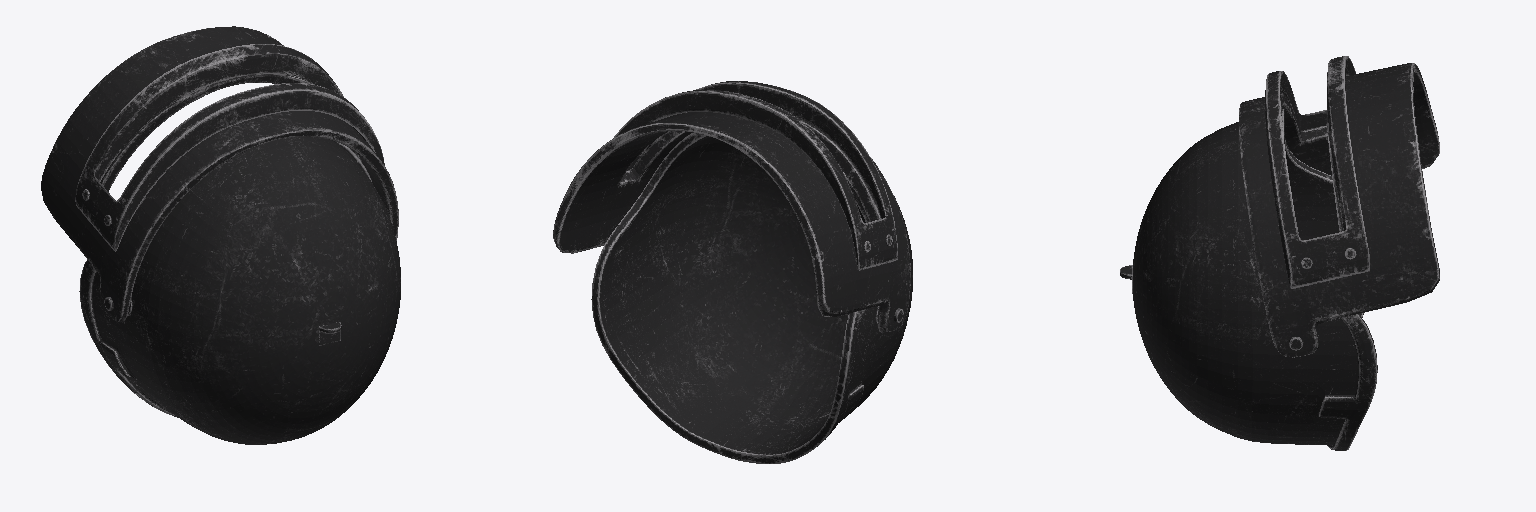
3 renders of one model, left to right at view 1: azimuth 30°, elevation 25°; view 2: azimuth 150°, elevation 25°; view 3: azimuth 270°, elevation 25°, orthographic.
Parts seen in each view (by area): view 1: 1_low, 2_low; view 2: 1_low, 2_low; view 3: 1_low, 2_low.
Part boxes in pixels (x1,y1,x2,y2): 1_low: (79, 137, 400, 444); 2_low: (41, 26, 398, 321); 1_low: (591, 132, 912, 463); 2_low: (553, 81, 910, 332); 1_low: (1120, 109, 1377, 450); 2_low: (1239, 56, 1439, 357).
Bounding box in the file's own units: 0.8444 × 1.05 × 0.8353.
1 materials, 1 textured.